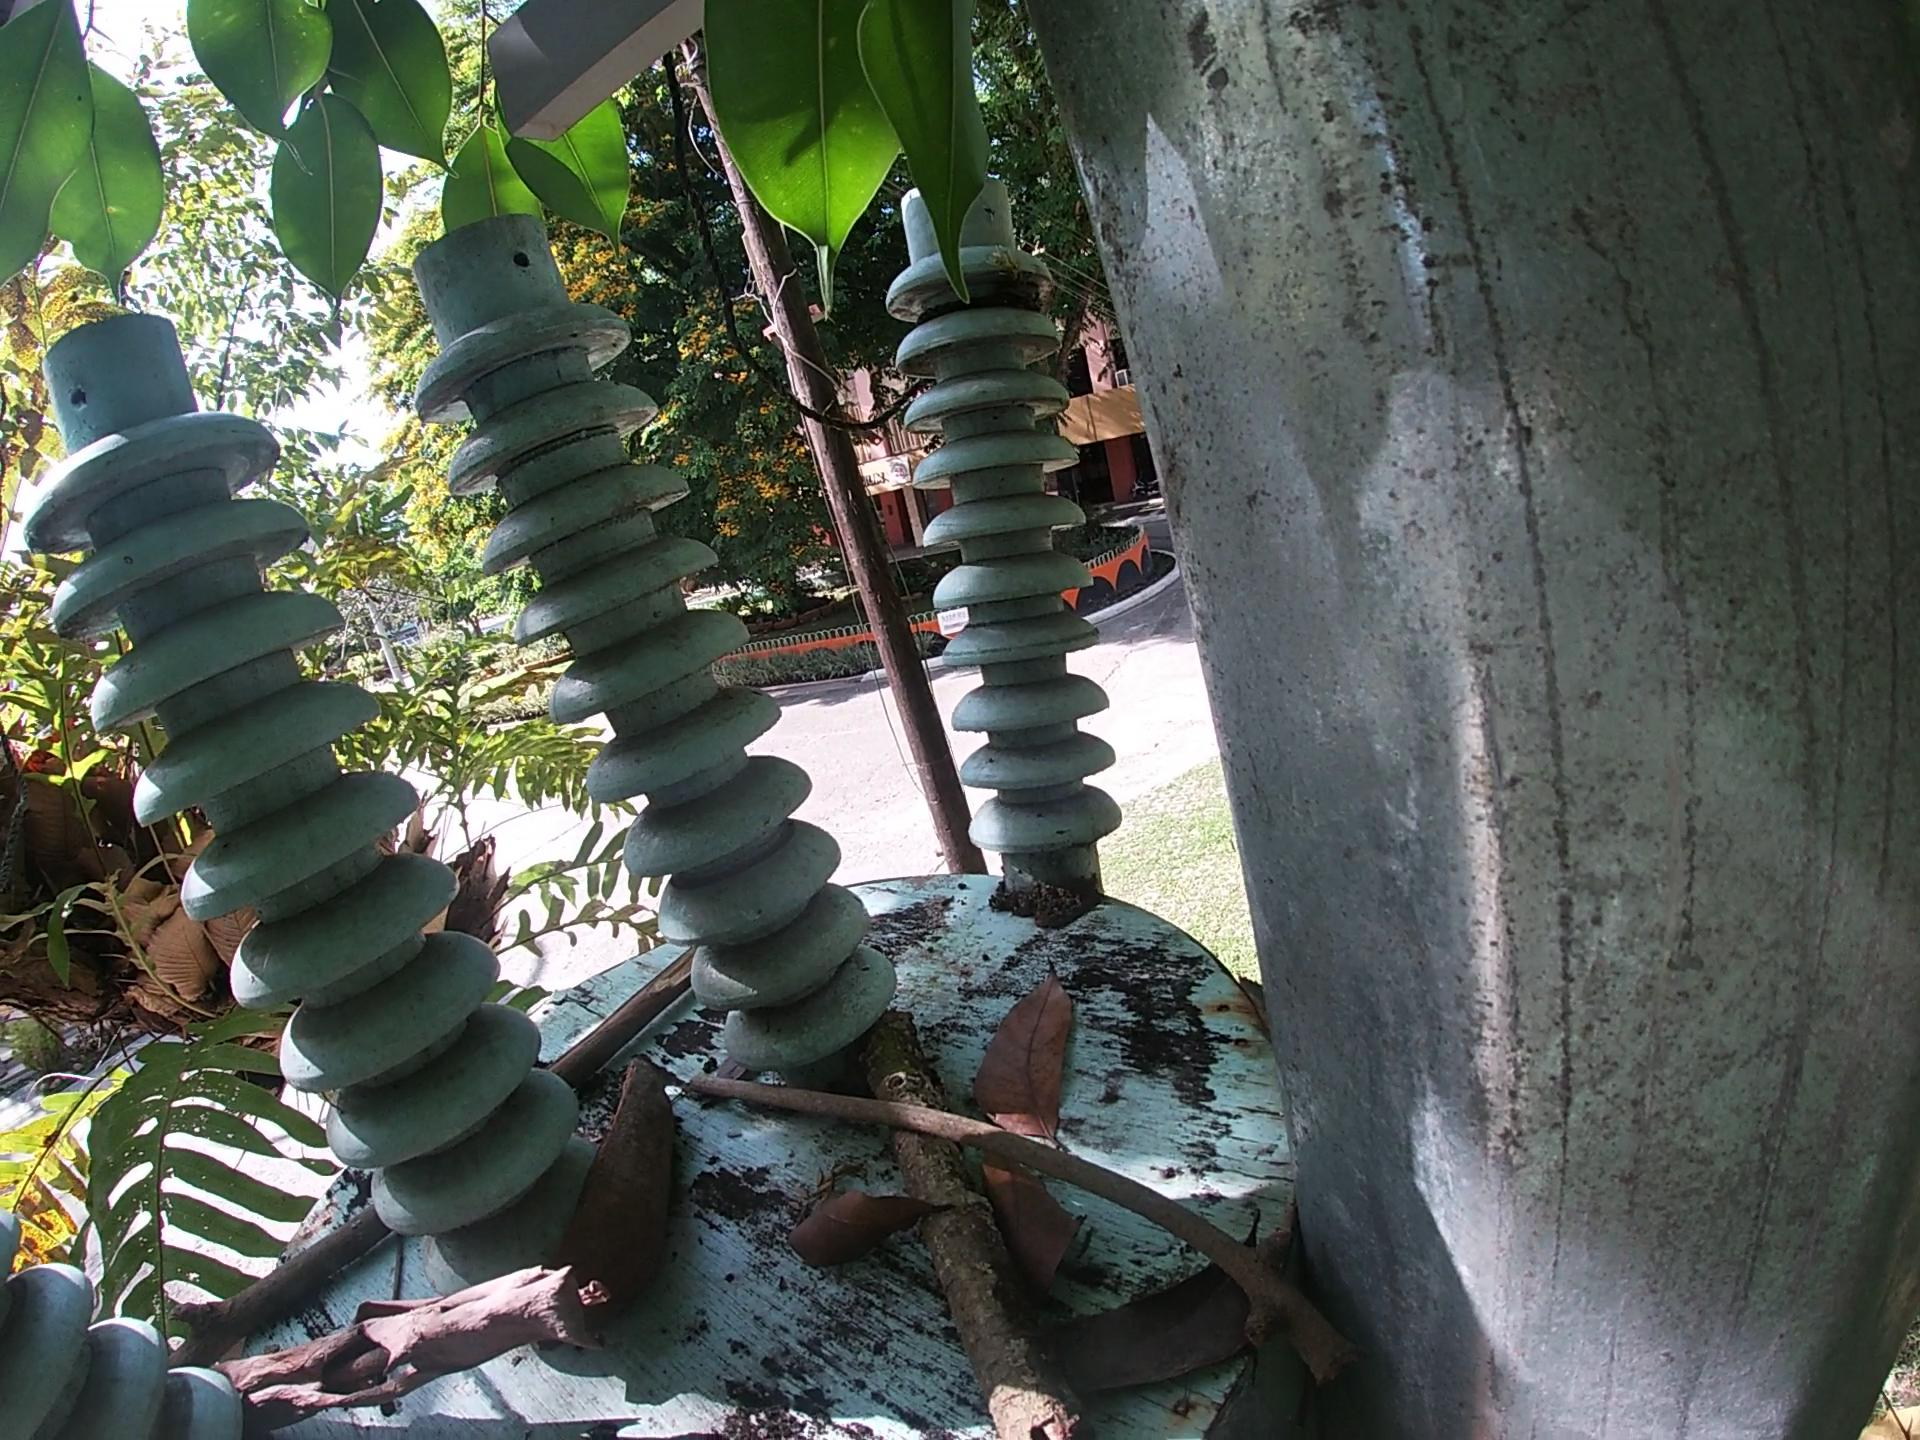leaf: (1043, 1204, 1274, 1408), (975, 961, 1078, 1150), (977, 1147, 1085, 1319), (779, 1187, 955, 1284)
mahogany fruit: (544, 1048, 680, 1355)
tree branch: (674, 1059, 1364, 1401), (844, 992, 1095, 1440), (209, 1255, 618, 1432), (159, 1199, 398, 1376), (543, 941, 708, 1092)
